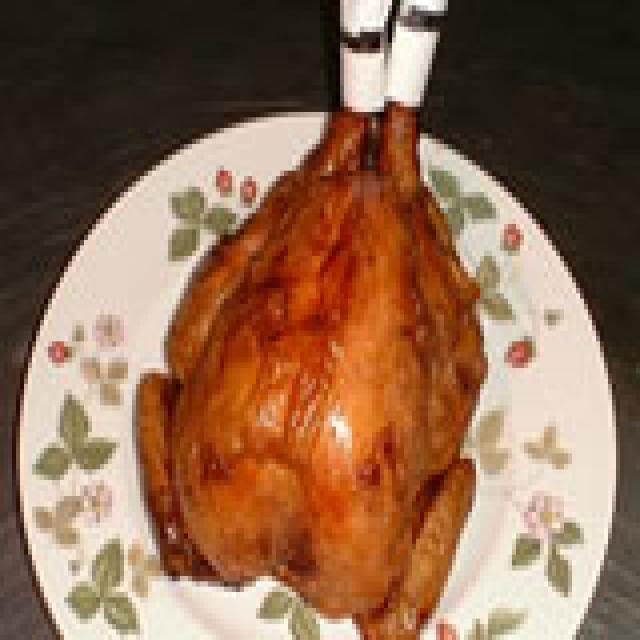Chicken: (120, 108, 493, 632)
